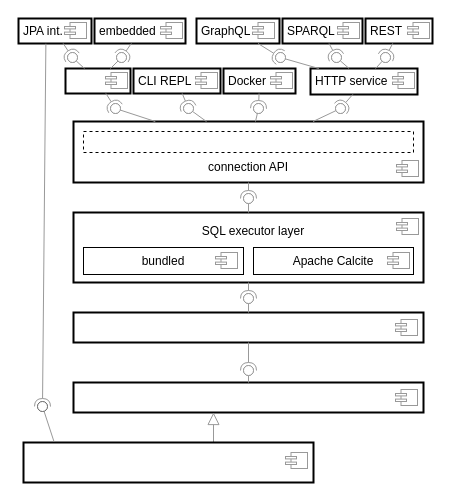
The diagram is 450 pixels wide and 500 high, and some of its shapes have lost their labels. The box of each missing label's shape, as (x1, y1, x2, y2) in pixels:
JDBC: (64, 67, 131, 94)
networking: (82, 130, 414, 152)
session layer: (72, 311, 424, 343)
storage API: (72, 381, 424, 413)
virtual storage: (22, 441, 314, 483)
